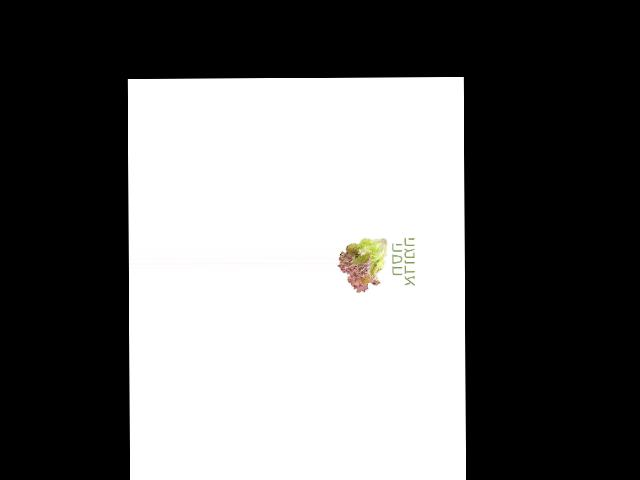lettuce: (337, 232, 389, 294)
